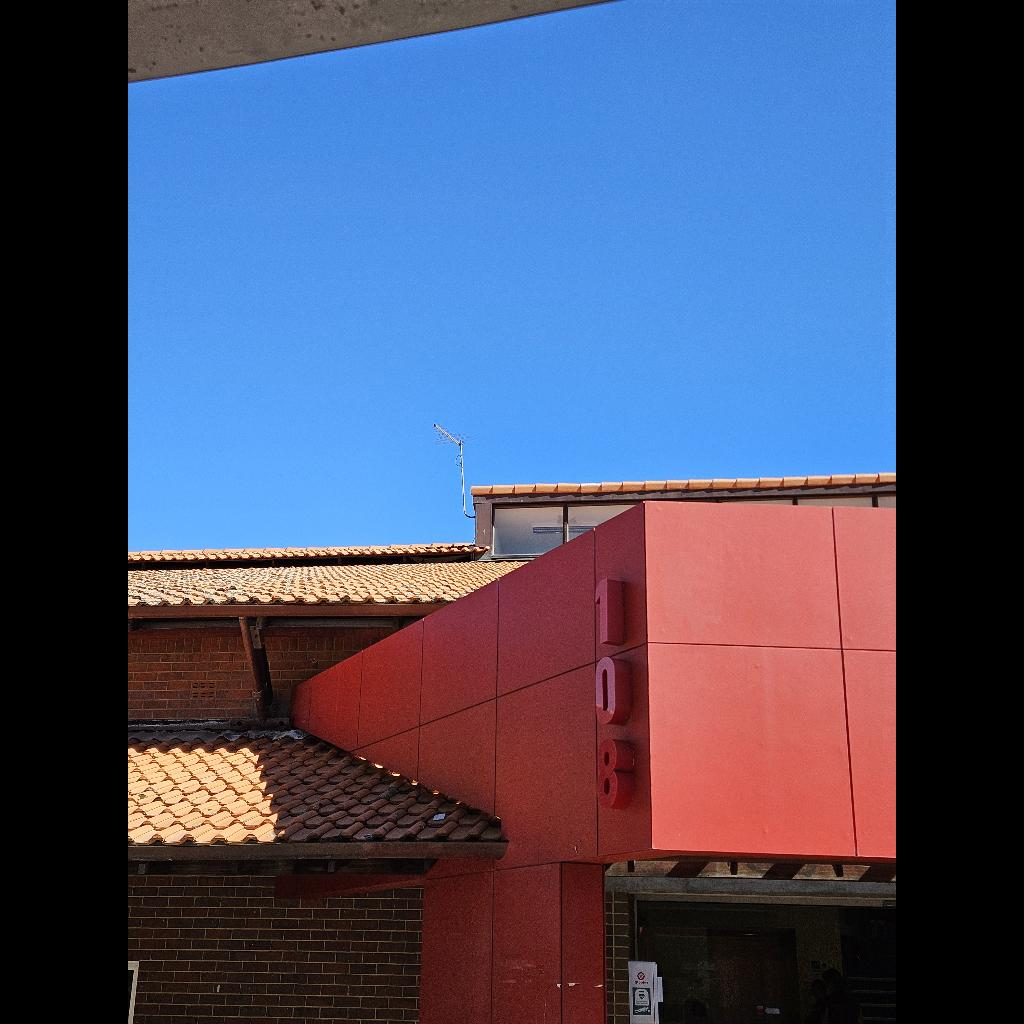BuildingCodes: (590, 576, 638, 812)
